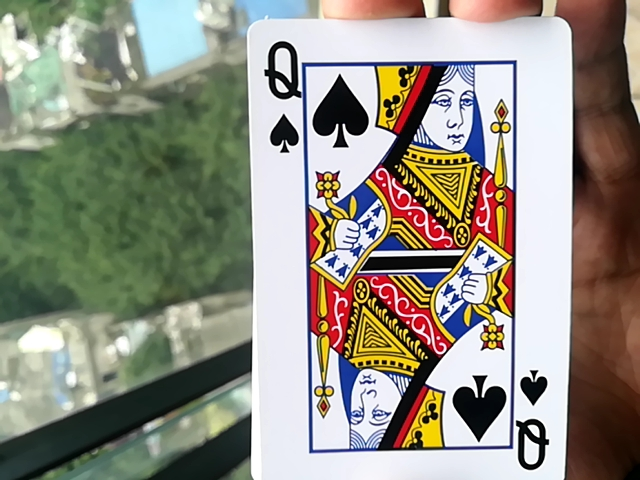ht q: (239, 22, 578, 479)
